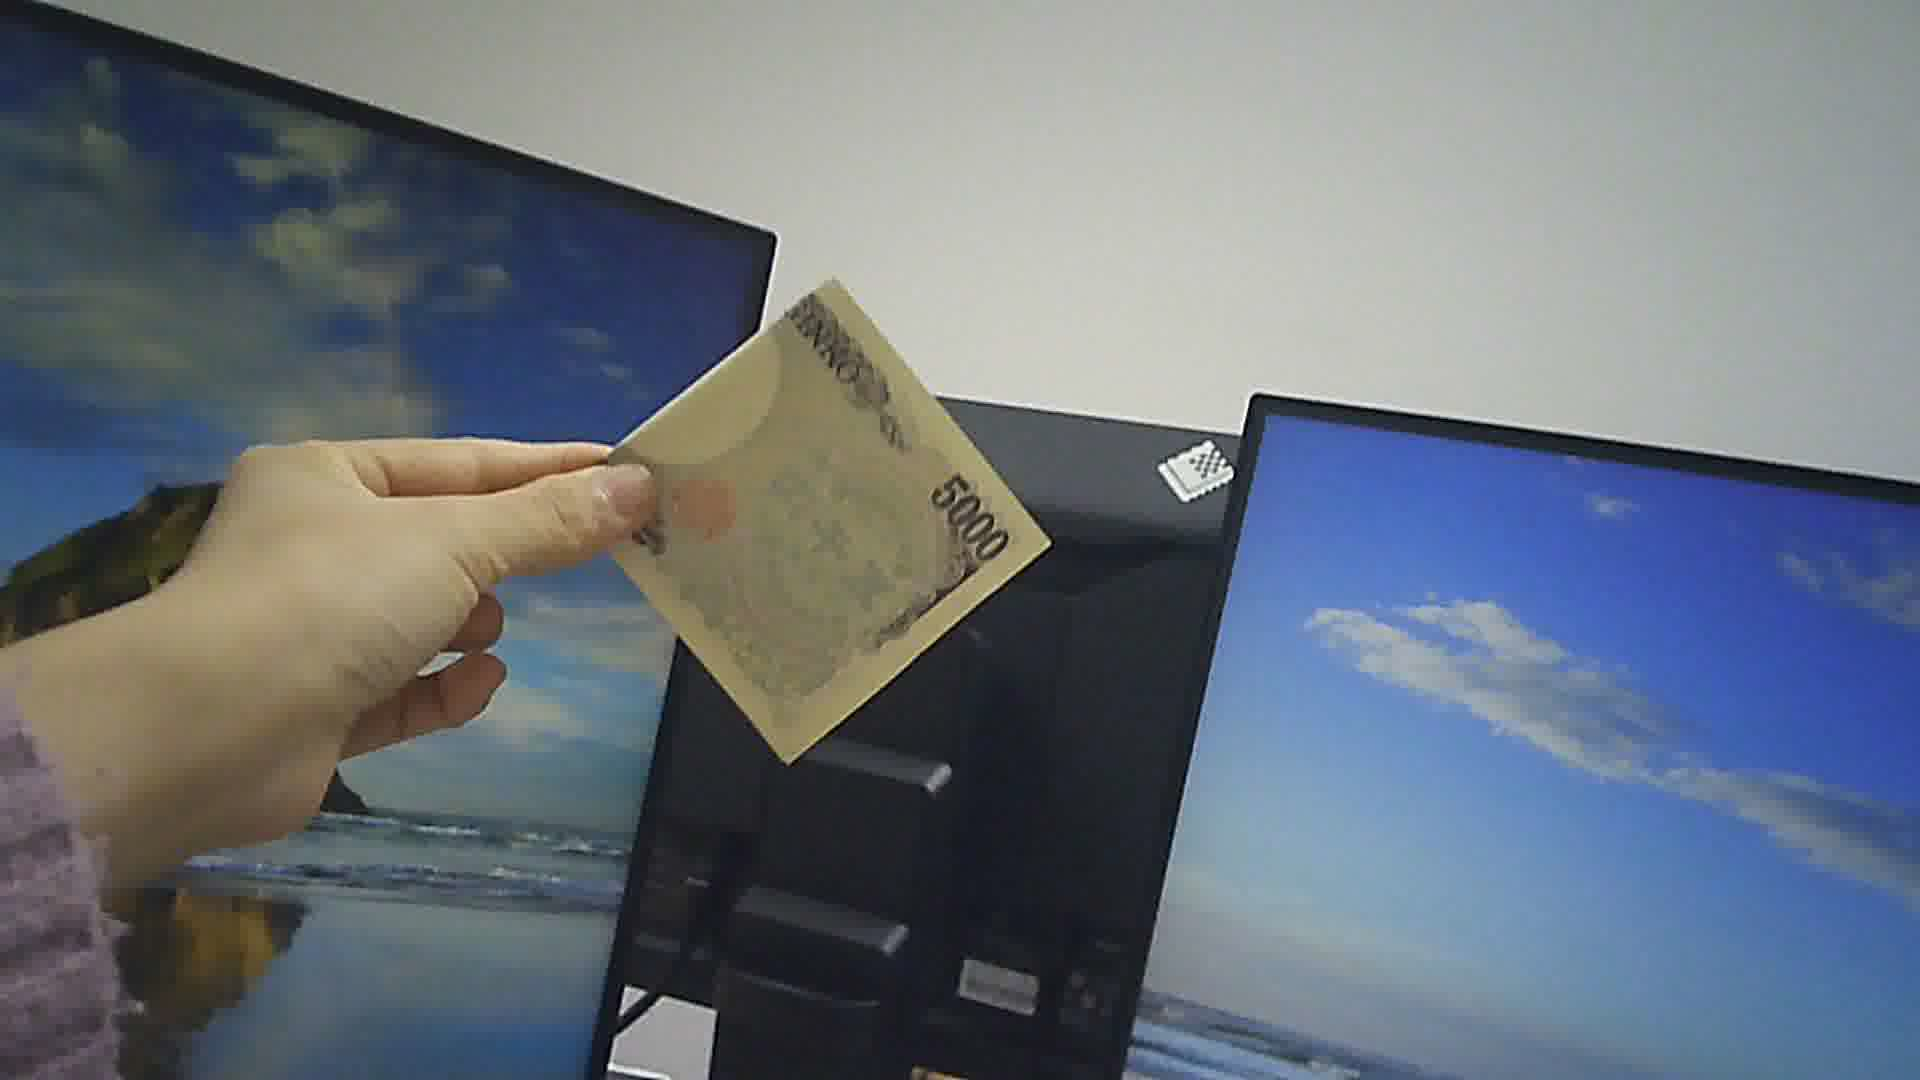5,000 Yen: (560, 256, 1069, 782)
